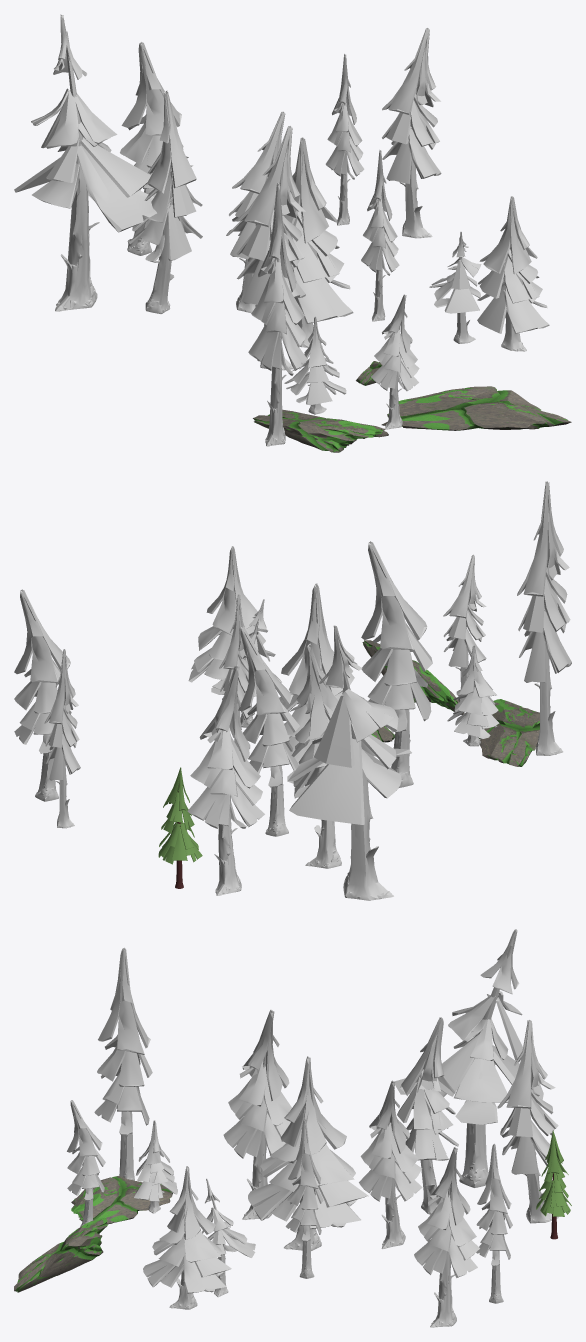
The model's file is tree_group_02_sm.fbx.
3 views of the same model, one above another, from view 1: azimuth 30°, elevation 25°; view 2: azimuth 150°, elevation 25°; view 3: azimuth 270°, elevation 25° (orthographic). The views are drawn at different scales.
Parts seen in each view (by area): view 1: tree_tex_03.003|TREE_07B_lo.026|Dupli|, tree_tex_04.004|TREE_07B_lo.001|Dupli|, tree_tex_01.002|TREE_07B_lo|Dupli|, tree_tex_04.003|TREE_07B_lo.001|Dupli|, tree_tex_02.004|TREE_07B_lo.007|Dupli|, tree_tex_02.002|TREE_07B_lo.007|Dupli|, rock_01.004|Mesh|Dupli|, tree_tex_04.001|TREE_07B_lo.001|Dupli|, tree_tex_04.005|TREE_07B_lo.001|Dupli|, tree_tex_04|TREE_07B_lo.001|Dupli|, rock_01.001|Mesh|Dupli|, tree_tex_01.006|TREE_07B_lo|Dupli| (+4 smaller); view 2: tree_tex_03.003|TREE_07B_lo.026|Dupli|, tree_tex_04.001|TREE_07B_lo.001|Dupli|, tree_tex_04.005|TREE_07B_lo.001|Dupli|, tree_tex_01.002|TREE_07B_lo|Dupli|, tree_tex_04.002|TREE_07B_lo.001|Dupli|, tree_tex_04.003|TREE_07B_lo.001|Dupli|, tree_tex_04.004|TREE_07B_lo.001|Dupli|, tree_tex_02.002|TREE_07B_lo.007|Dupli|, tree_tex_02.004|TREE_07B_lo.007|Dupli|, tree_tex_01.006|TREE_07B_lo|Dupli|, rock_01.001|Mesh|Dupli|, tree_tex_04|TREE_07B_lo.001|Dupli| (+5 smaller); view 3: tree_tex_03.003|TREE_07B_lo.026|Dupli|, tree_tex_02.004|TREE_07B_lo.007|Dupli|, tree_tex_04.001|TREE_07B_lo.001|Dupli|, tree_tex_01.002|TREE_07B_lo|Dupli|, tree_tex_02.002|TREE_07B_lo.007|Dupli|, tree_tex_04.005|TREE_07B_lo.001|Dupli|, tree_tex_04.003|TREE_07B_lo.001|Dupli|, tree_tex_04.004|TREE_07B_lo.001|Dupli|, tree_tex_04.002|TREE_07B_lo.001|Dupli|, rock_01.004|Mesh|Dupli|, tree_tex_01.004|TREE_07B_lo|Dupli|, tree_tex_01.006|TREE_07B_lo|Dupli| (+5 smaller).
Part boxes in pixels (bbox=[...]): tree_tex_03.003|TREE_07B_lo.026|Dupli|: bbox=[14, 14, 170, 311]; tree_tex_04.004|TREE_07B_lo.001|Dupli|: bbox=[128, 90, 202, 313]; tree_tex_01.002|TREE_07B_lo|Dupli|: bbox=[248, 183, 307, 446]; tree_tex_04.003|TREE_07B_lo.001|Dupli|: bbox=[382, 28, 441, 238]; tree_tex_02.004|TREE_07B_lo.007|Dupli|: bbox=[255, 137, 353, 347]; tree_tex_02.002|TREE_07B_lo.007|Dupli|: bbox=[477, 196, 549, 351]; rock_01.004|Mesh|Dupli|: bbox=[381, 386, 571, 430]; tree_tex_04.001|TREE_07B_lo.001|Dupli|: bbox=[236, 126, 305, 370]; tree_tex_04.005|TREE_07B_lo.001|Dupli|: bbox=[120, 42, 183, 255]; tree_tex_04|TREE_07B_lo.001|Dupli|: bbox=[371, 294, 419, 429]; rock_01.001|Mesh|Dupli|: bbox=[253, 409, 388, 452]; tree_tex_01.006|TREE_07B_lo|Dupli|: bbox=[325, 54, 364, 225]; tree_tex_03.003|TREE_07B_lo.026|Dupli|: bbox=[288, 625, 411, 900]; tree_tex_04.001|TREE_07B_lo.001|Dupli|: bbox=[361, 541, 432, 787]; tree_tex_04.005|TREE_07B_lo.001|Dupli|: bbox=[187, 665, 264, 895]; tree_tex_01.002|TREE_07B_lo|Dupli|: bbox=[517, 481, 571, 755]; tree_tex_04.002|TREE_07B_lo.001|Dupli|: bbox=[238, 625, 299, 836]; tree_tex_04.003|TREE_07B_lo.001|Dupli|: bbox=[14, 589, 75, 801]; tree_tex_04.004|TREE_07B_lo.001|Dupli|: bbox=[289, 643, 341, 868]; tree_tex_02.002|TREE_07B_lo.007|Dupli|: bbox=[188, 546, 275, 699]; tree_tex_02.004|TREE_07B_lo.007|Dupli|: bbox=[262, 583, 364, 786]; tree_tex_01.006|TREE_07B_lo|Dupli|: bbox=[44, 649, 80, 828]; rock_01.001|Mesh|Dupli|: bbox=[479, 699, 539, 766]; tree_tex_04|TREE_07B_lo.001|Dupli|: bbox=[443, 554, 486, 701]; tree_tex_03.003|TREE_07B_lo.026|Dupli|: bbox=[394, 929, 543, 1187]; tree_tex_02.004|TREE_07B_lo.007|Dupli|: bbox=[248, 1056, 368, 1250]; tree_tex_04.001|TREE_07B_lo.001|Dupli|: bbox=[223, 1009, 291, 1219]; tree_tex_01.002|TREE_07B_lo|Dupli|: bbox=[94, 947, 152, 1180]; tree_tex_02.002|TREE_07B_lo.007|Dupli|: bbox=[143, 1166, 231, 1309]; tree_tex_04.005|TREE_07B_lo.001|Dupli|: bbox=[497, 1020, 558, 1223]; tree_tex_04.003|TREE_07B_lo.001|Dupli|: bbox=[414, 1146, 479, 1327]; tree_tex_04.004|TREE_07B_lo.001|Dupli|: bbox=[397, 1017, 458, 1214]; tree_tex_04.002|TREE_07B_lo.001|Dupli|: bbox=[359, 1080, 422, 1249]; rock_01.004|Mesh|Dupli|: bbox=[14, 1217, 107, 1292]; tree_tex_01.004|TREE_07B_lo|Dupli|: bbox=[285, 1119, 323, 1278]; tree_tex_01.006|TREE_07B_lo|Dupli|: bbox=[476, 1143, 512, 1303].
Size of the model in its own units: 2835 by 1969 by 3841.
